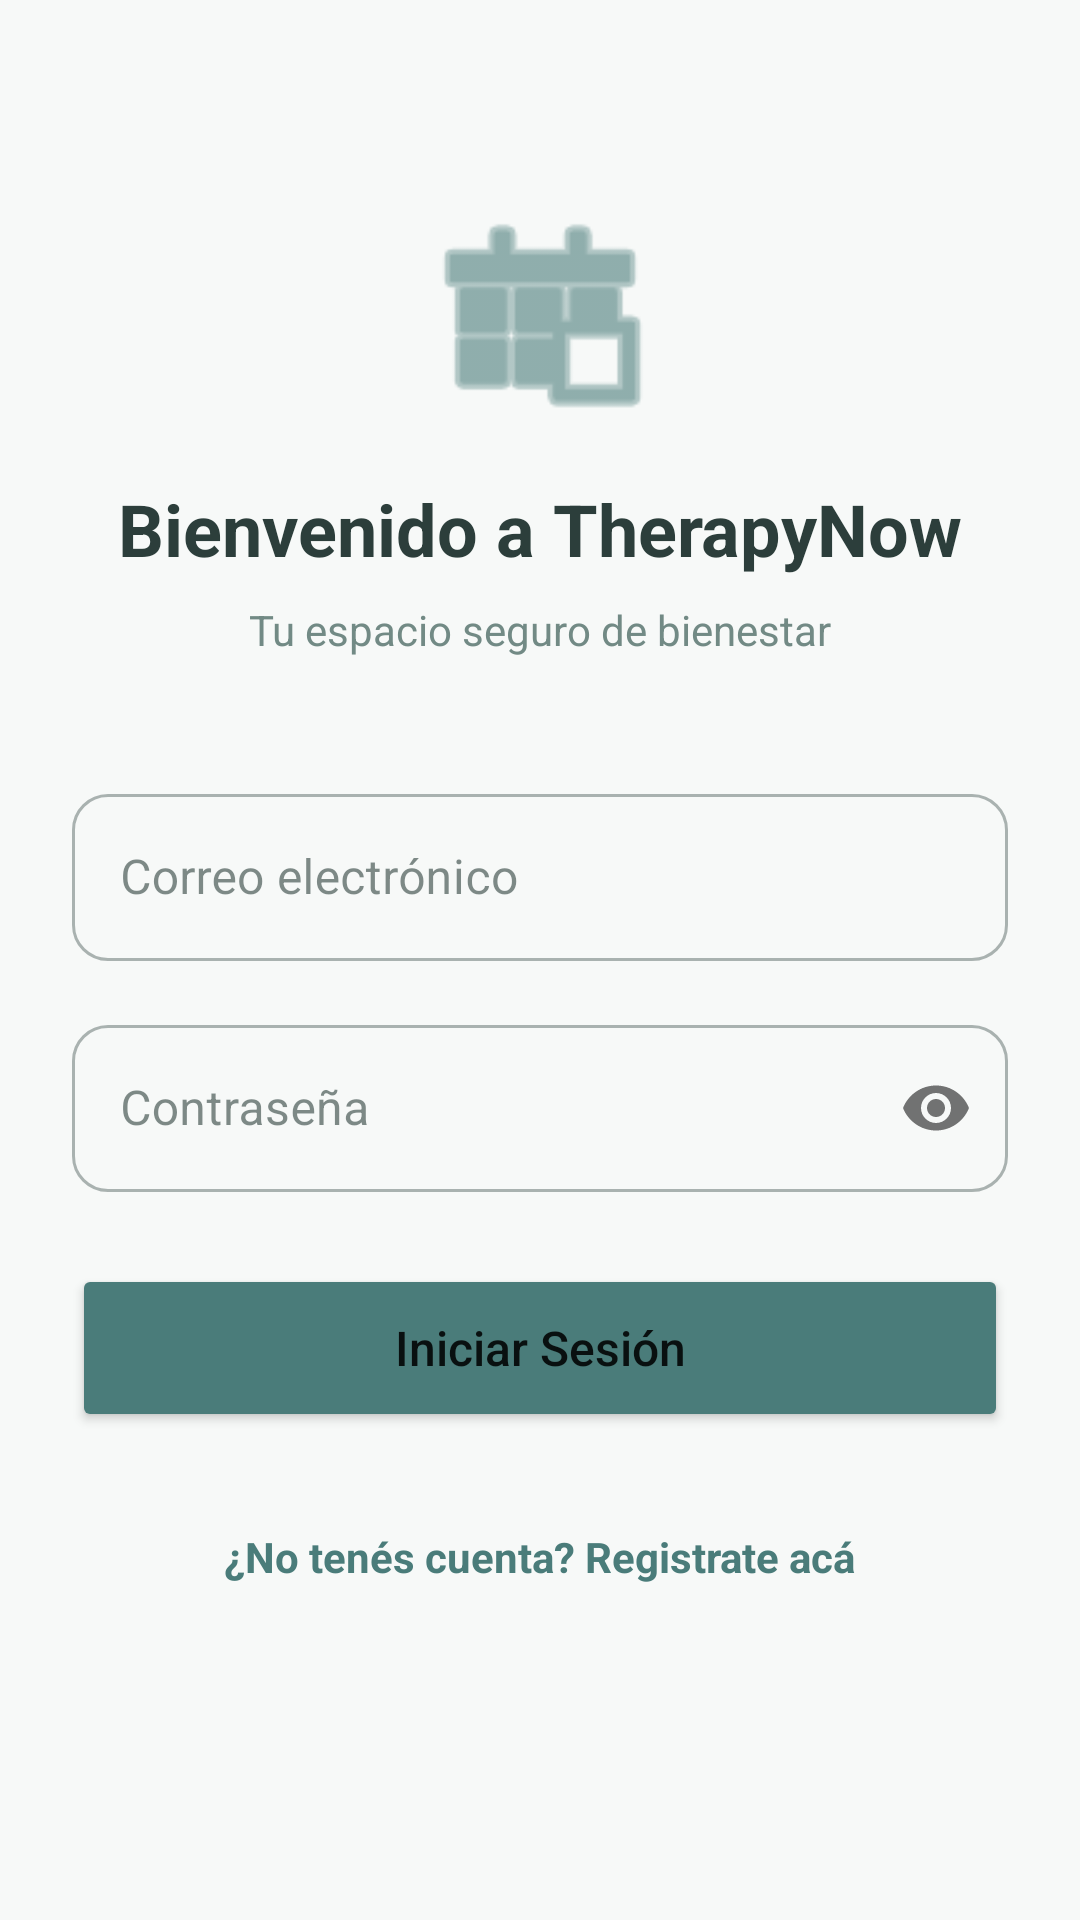

Icon bounding boxes for this 1080 x 1920 phone screenshot, format (x1, y1, x2, y2):
today: (444, 225, 641, 407)
